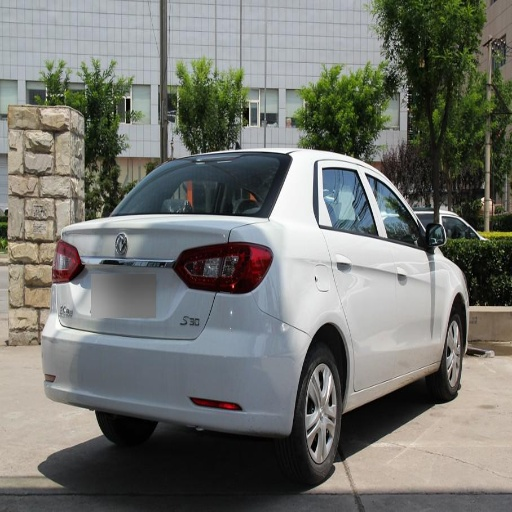back_bumper: (42, 287, 311, 437)
back_right_door: (315, 157, 396, 388)
tailgate: (64, 215, 223, 339)
